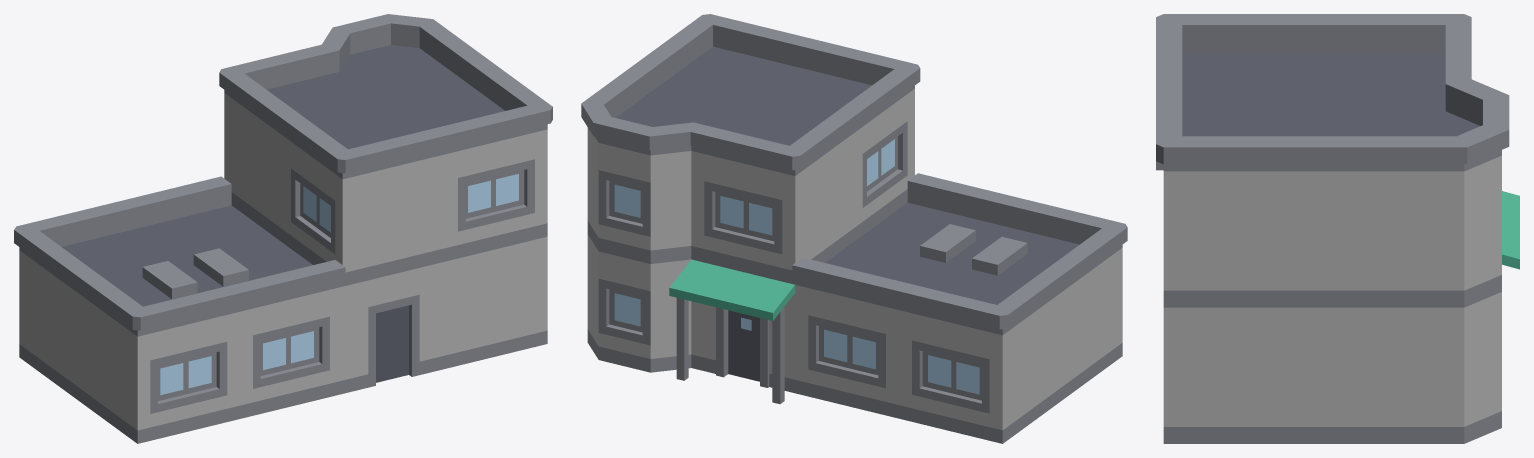
The model's file is small_building.glb.
3 views of the same model, side by side, from view 1: azimuth 30°, elevation 25°; view 2: azimuth 150°, elevation 25°; view 3: azimuth 270°, elevation 25° (orthographic). The views are drawn at different scales.
Visible parts, largest first — view 1: small_buildingE_7b9eda, small_buildingE_6cce2f, small_buildingE, small_buildingE_2e48c5; view 2: small_buildingE_6cce2f, small_buildingE_7b9eda, small_buildingE, small_buildingE_2e48c5, small_buildingE_c3321a; view 3: small_buildingE_7b9eda, small_buildingE_6cce2f, small_buildingE, small_buildingE_c3321a.
Part boxes in pixels (x1,y1,x2,y2): small_buildingE_7b9eda: [19, 93, 547, 430]; small_buildingE_6cce2f: [14, 14, 552, 443]; small_buildingE: [62, 45, 504, 382]; small_buildingE_2e48c5: [160, 174, 518, 395]; small_buildingE_6cce2f: [581, 14, 1127, 443]; small_buildingE_7b9eda: [587, 89, 1122, 430]; small_buildingE: [616, 46, 1079, 381]; small_buildingE_2e48c5: [614, 139, 979, 394]; small_buildingE_c3321a: [669, 259, 795, 320]; small_buildingE_7b9eda: [1163, 155, 1501, 426]; small_buildingE_6cce2f: [1156, 14, 1509, 443]; small_buildingE: [1182, 52, 1480, 136]; small_buildingE_c3321a: [1502, 191, 1519, 269].
Bounding box in the file's own units: 18.64 × 10 × 11.
